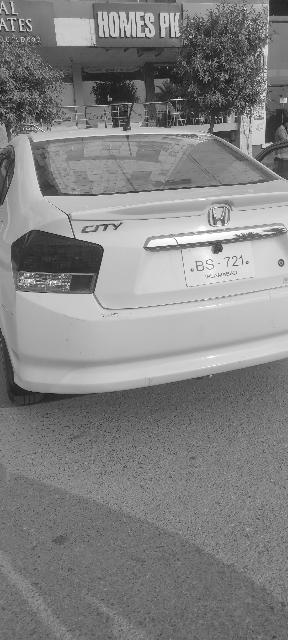Number: (100, 9, 156, 41), (194, 254, 245, 273)
